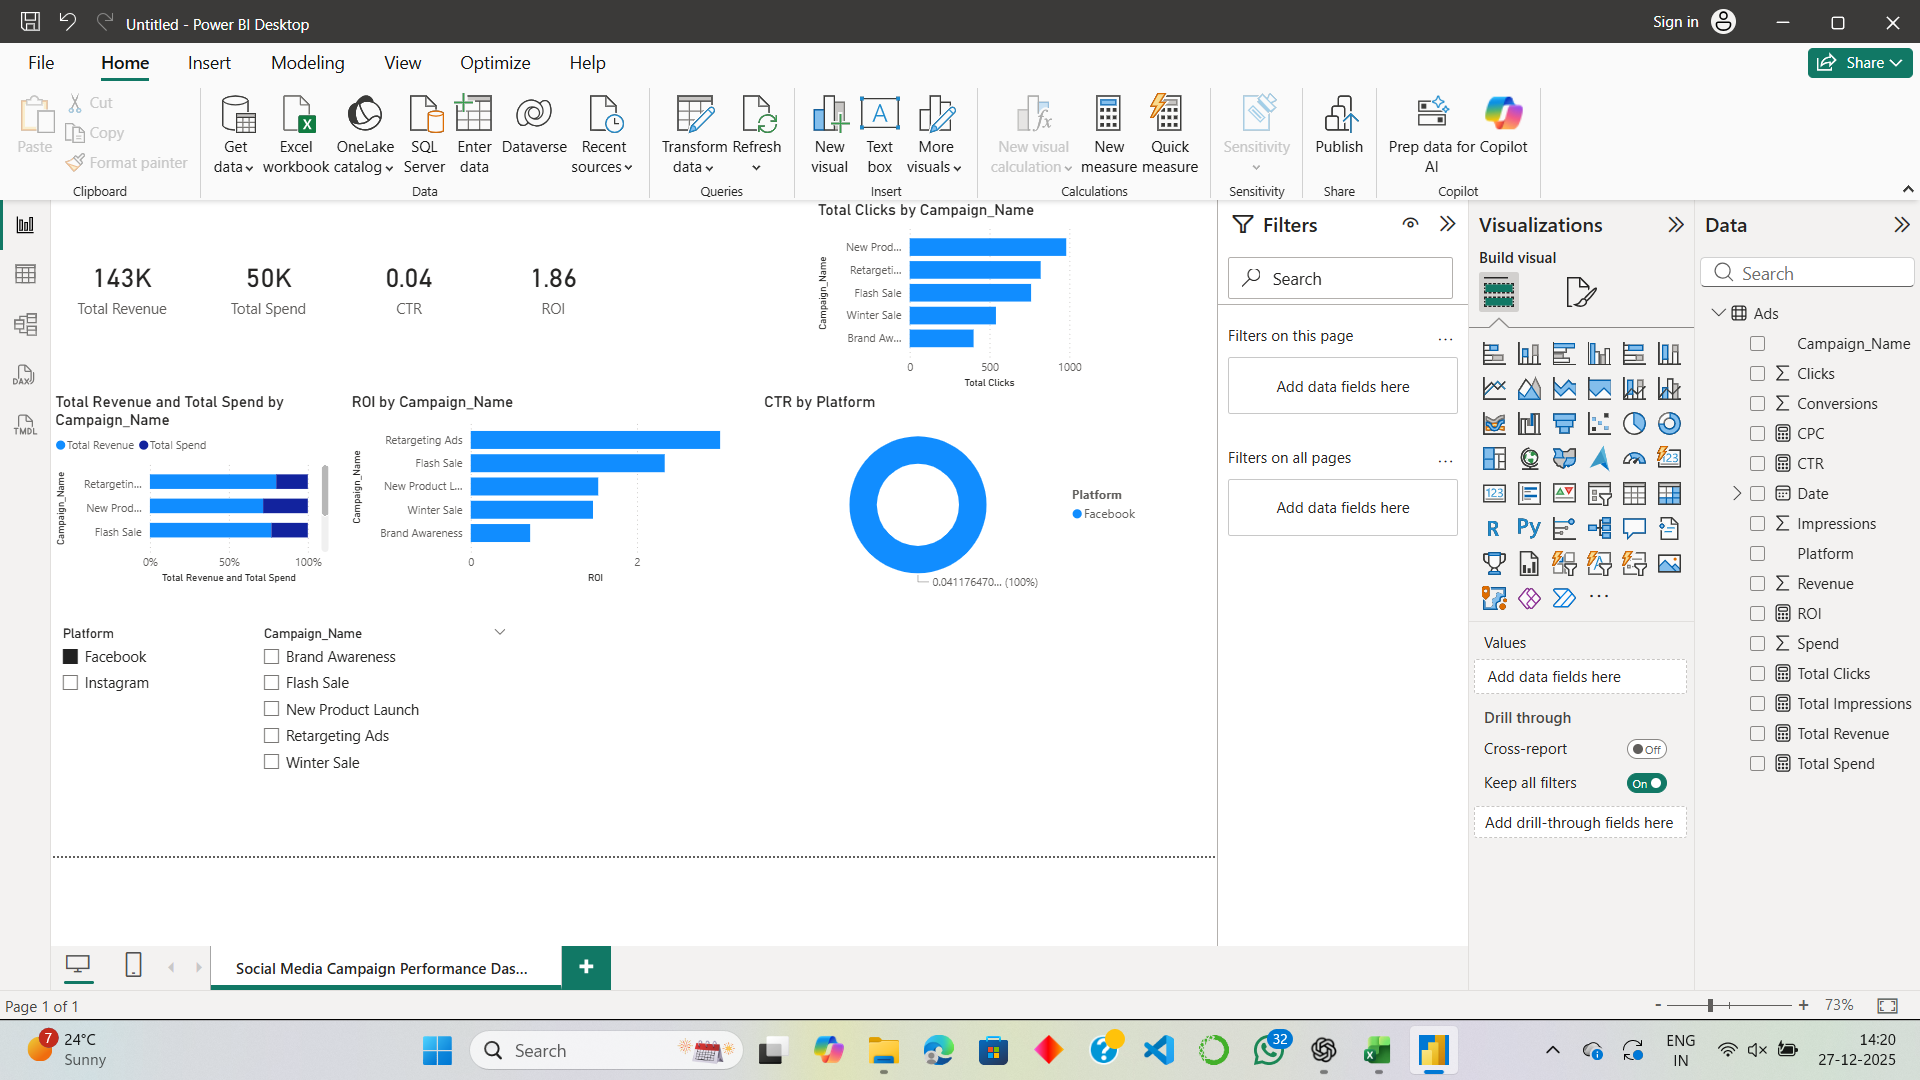

The dashboard page shown, as its layout file describes it:
{"tool":"powerbi","page":{"name":"Social Media Campaign Performance Dashboard","canvas":[1280,720],"ordinal":0},"visuals":[{"type":"card","fields":{"Values":["Ads.Total Revenue"]},"box":[0,0,156.4,189.4],"z":0},{"type":"card","fields":{"Values":["Ads.Total Spend"]},"box":[167.4,0,142.7,189.4],"z":1},{"type":"card","fields":{"Values":["Ads.CTR"]},"box":[325.2,0,135.8,189.4],"z":2},{"type":"card","fields":{"Values":["Ads.ROI"]},"box":[474.8,0,153.7,189.4],"z":3},{"type":"clusteredBarChart","fields":{"Category":["Ads.Campaign_Name"],"Y":["Ads.Total Clicks"]},"box":[837.1,0,299.1,211.3],"z":4},{"type":"hundredPercentStackedBarChart","fields":{"Category":["Ads.Campaign_Name"],"Y":["Ads.Total Revenue","Ads.Total Spend"]},"box":[0,211.3,310.1,214.1],"z":5},{"type":"barChart","fields":{"Category":["Ads.Campaign_Name"],"Y":["Ads.ROI"]},"box":[325.2,211.3,418.5,214.1],"z":6},{"type":"donutChart","fields":{"Category":["Ads.Platform"],"Y":["Ads.CTR"]},"box":[778,211.3,426.8,227.8],"z":7},{"type":"slicer","fields":{"Values":["Ads.Platform"]},"box":[0,462.5,310,214],"z":8},{"type":"slicer","fields":{"Values":["Ads.Campaign_Name"]},"box":[220.9,462.4,290.9,214.1],"z":9}]}

Visuals, with their boxes on the page's 1280x720 design canvas (x1, y1, x2, y2). These are canvas units, not pixel positions in the 1920x1080 screenshot, which may show the page scaled, cropped or inside an application window:
card - Ads.Total Revenue: region(0, 0, 156, 189)
card - Ads.Total Spend: region(167, 0, 310, 189)
card - Ads.CTR: region(325, 0, 461, 189)
card - Ads.ROI: region(475, 0, 628, 189)
clusteredBarChart - Ads.Campaign_Name x Ads.Total Clicks: region(837, 0, 1136, 211)
hundredPercentStackedBarChart - Ads.Campaign_Name x Ads.Total Revenue: region(0, 211, 310, 425)
barChart - Ads.Campaign_Name x Ads.ROI: region(325, 211, 744, 425)
donutChart - Ads.Platform x Ads.CTR: region(778, 211, 1205, 439)
slicer - Ads.Platform: region(0, 462, 310, 676)
slicer - Ads.Campaign_Name: region(221, 462, 512, 676)
